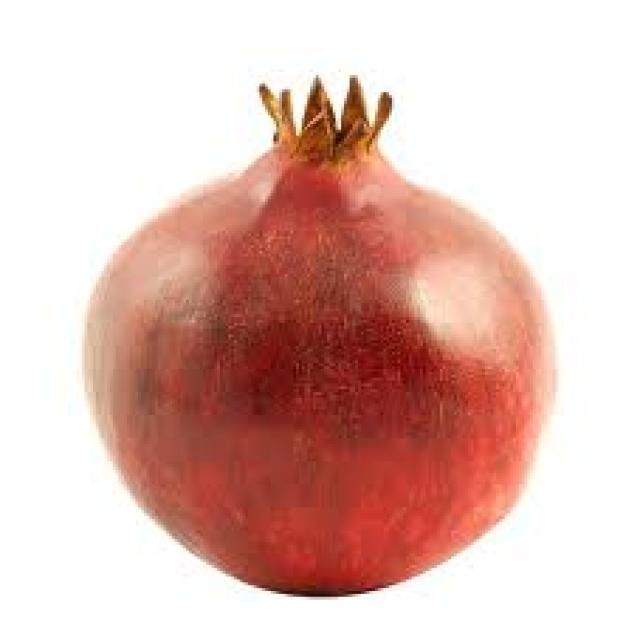pomegranate: (62, 69, 575, 600)
